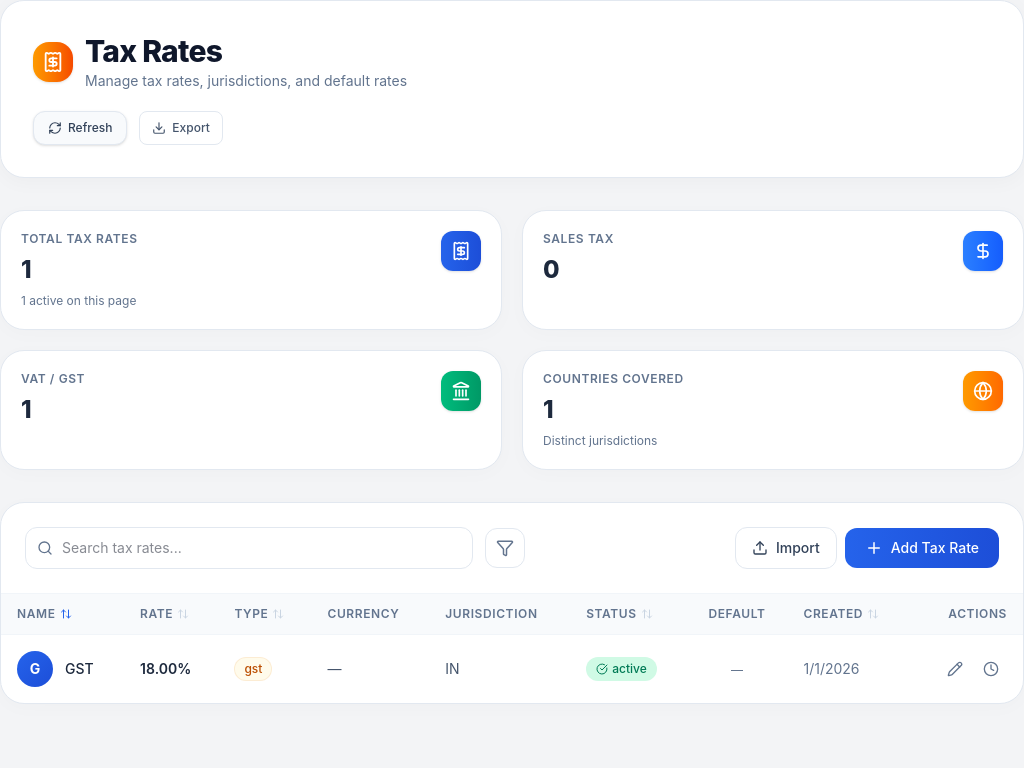
it: Tax Rates dialogs › Import Tax Rates wizard opens and Cancel closes it
Expected: the text "GST" is shown, [65,659,94,679]
Click the button "Import" at (786, 548), box [735,527,837,569]
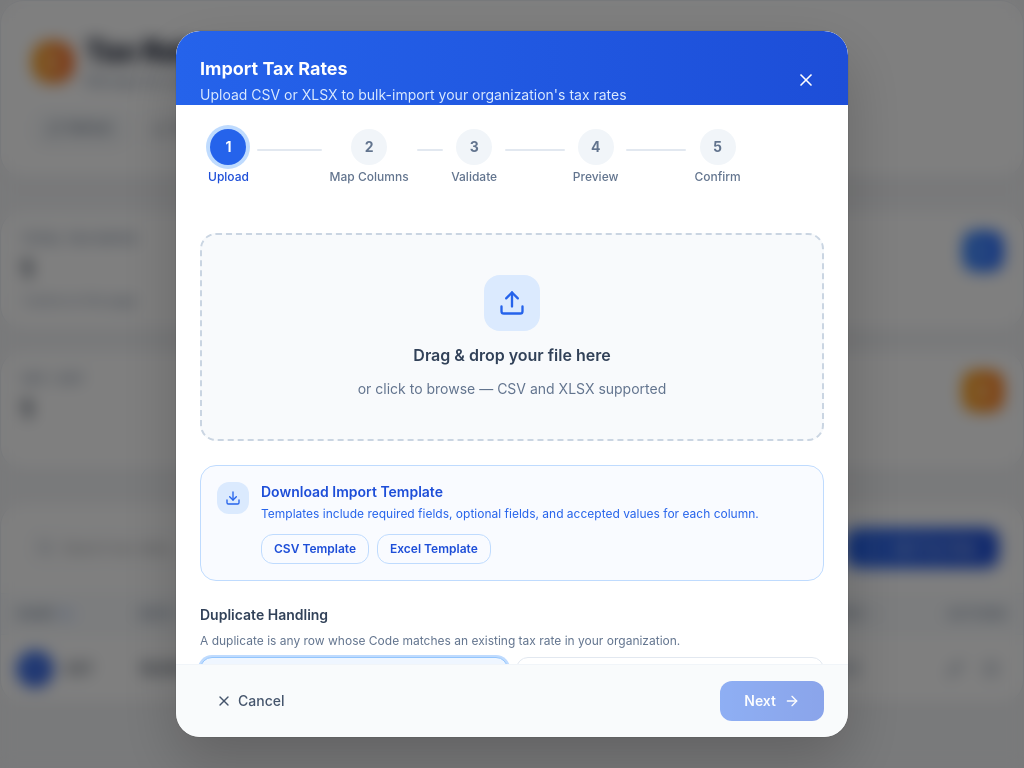
Click the button "Cancel" at (250, 701), box [200,683,300,719]
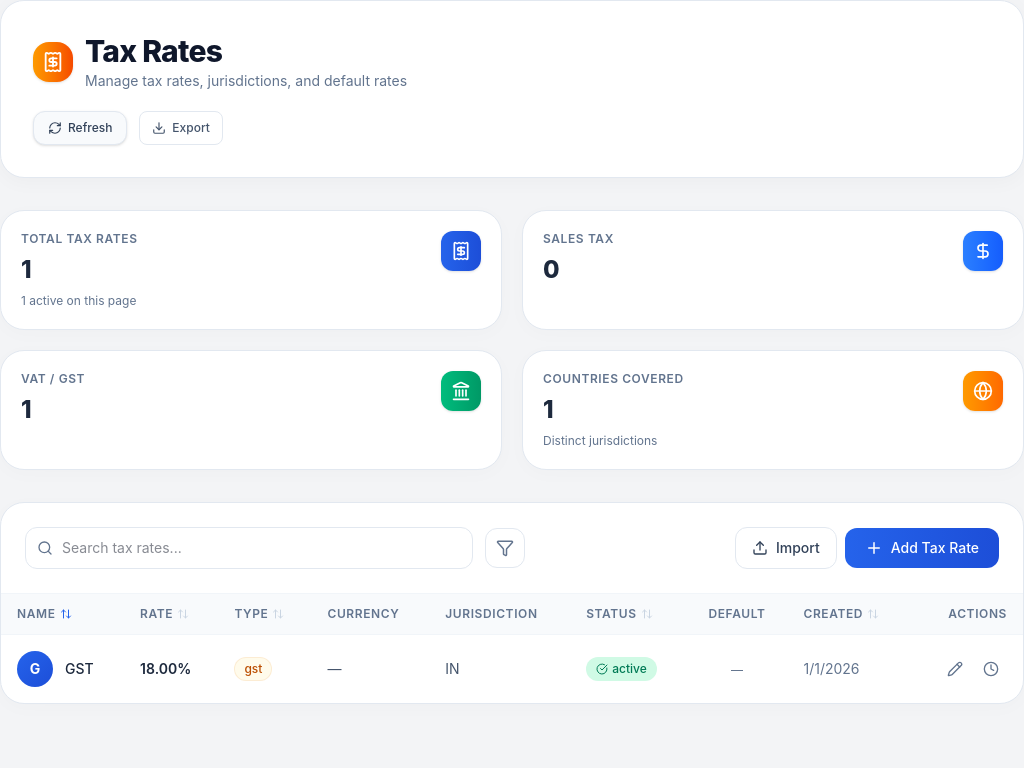
Now the heading "Import Tax Rates" is gone
